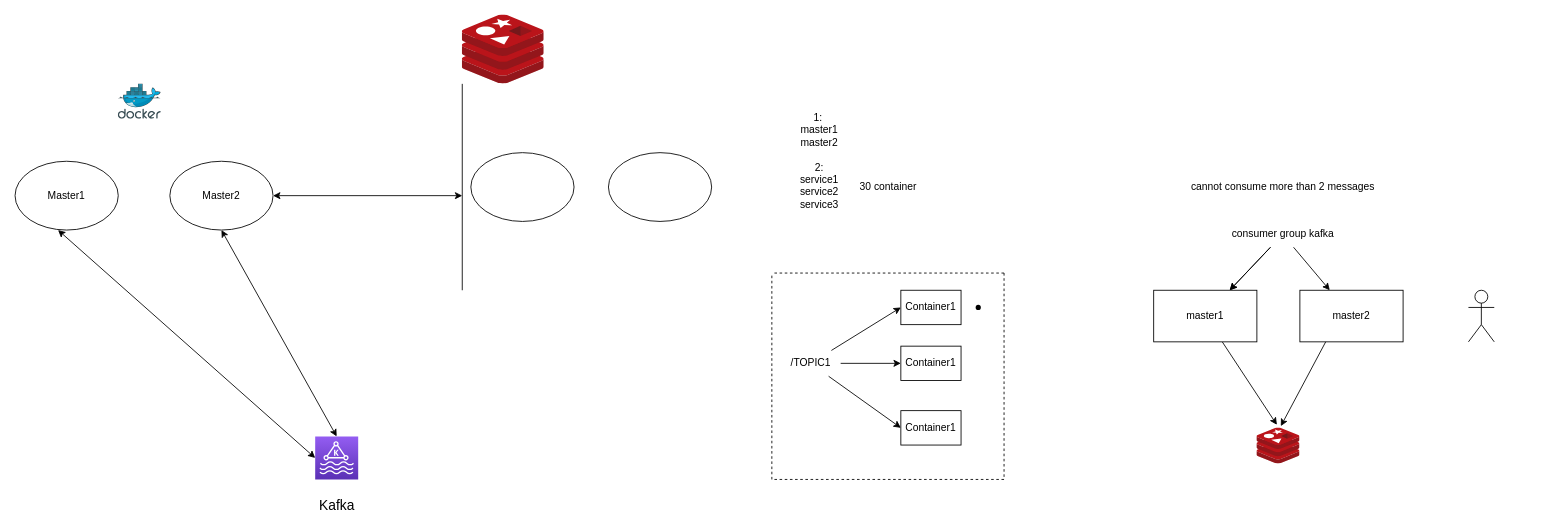
This 1550x532 diagram has some shape labels left out. The box of each missing label's shape, as (x1, y1, x2, y2) in pixels:
POL, copain de patricia: (1468, 289, 1494, 342)
redis sentinel 1: (470, 152, 574, 221)
redis sentinel 2: (608, 152, 712, 221)
